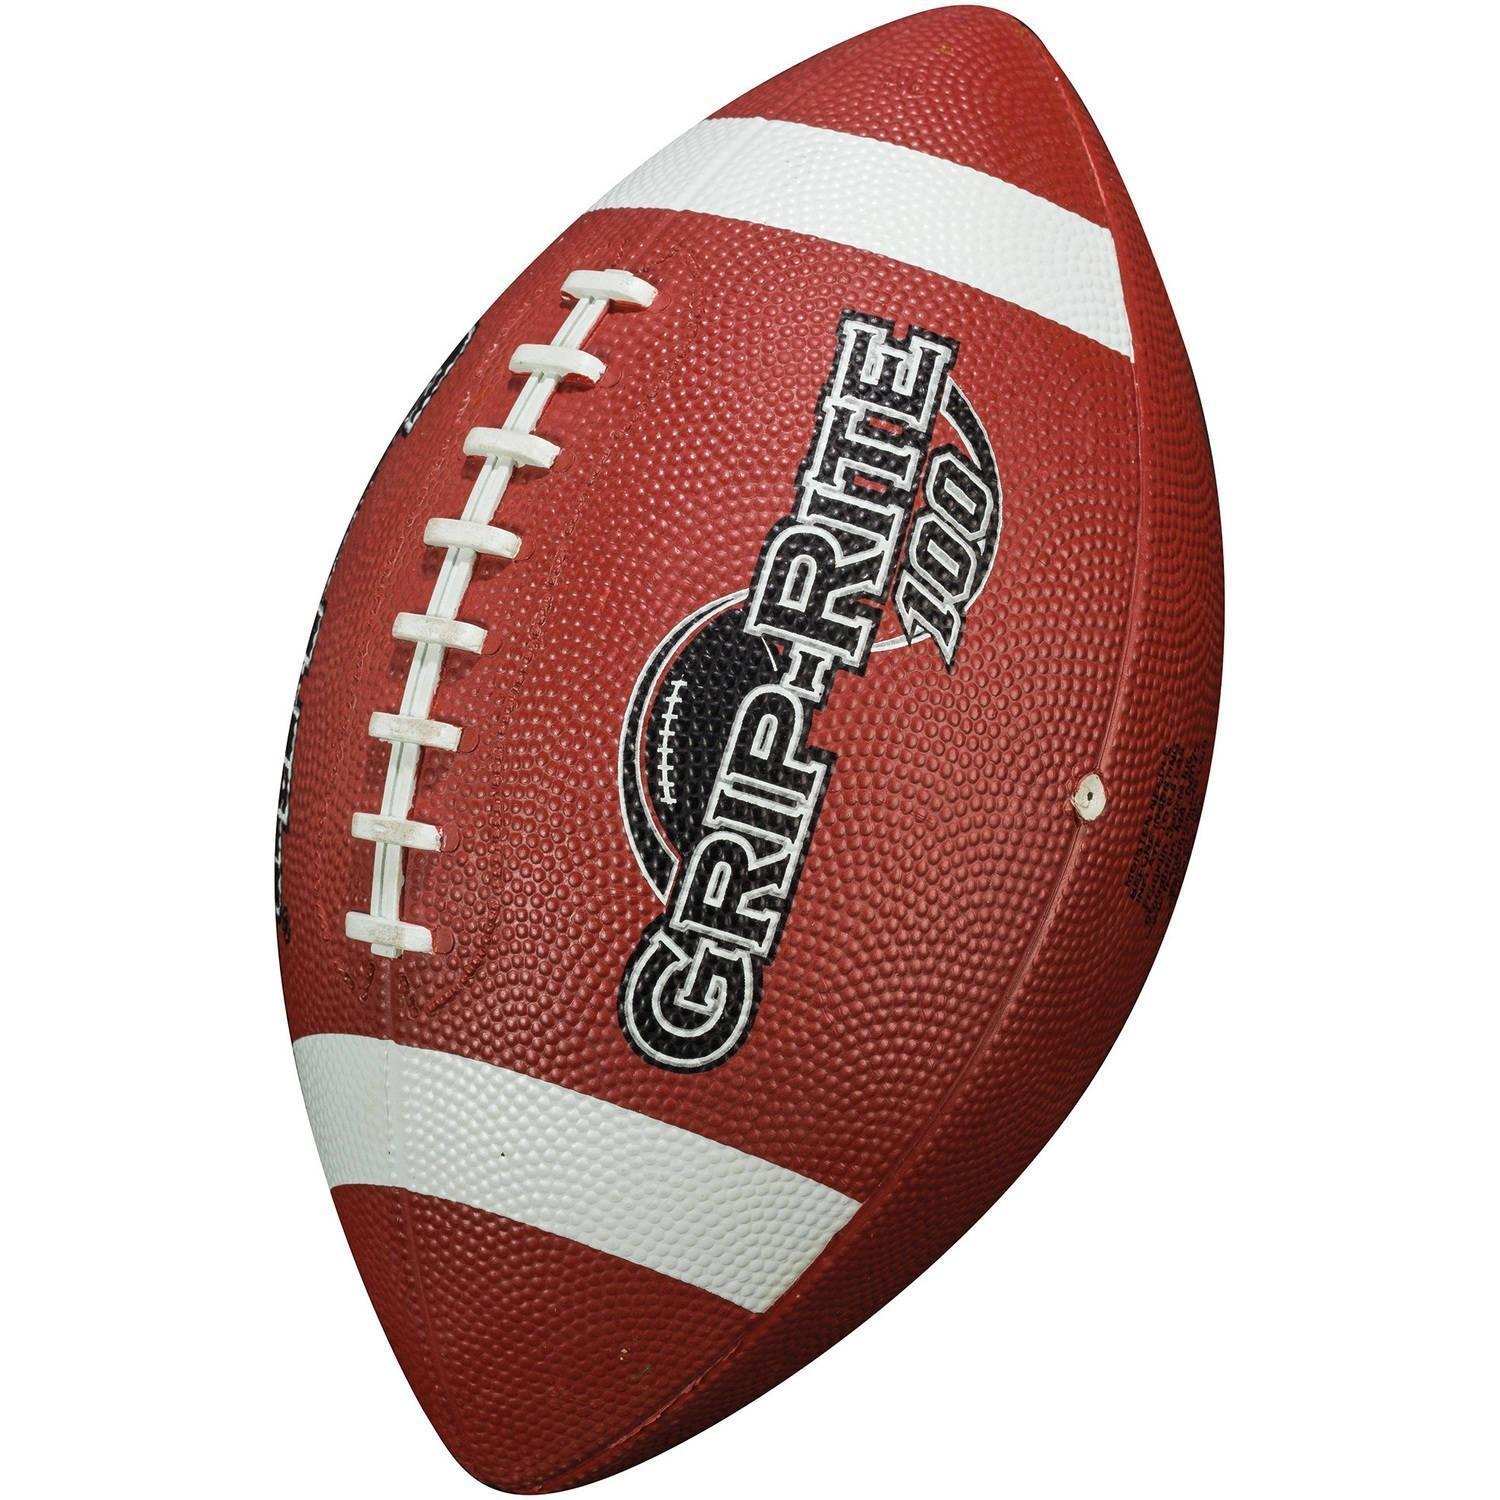Sports-Ball: (276, 10, 1221, 1490)
